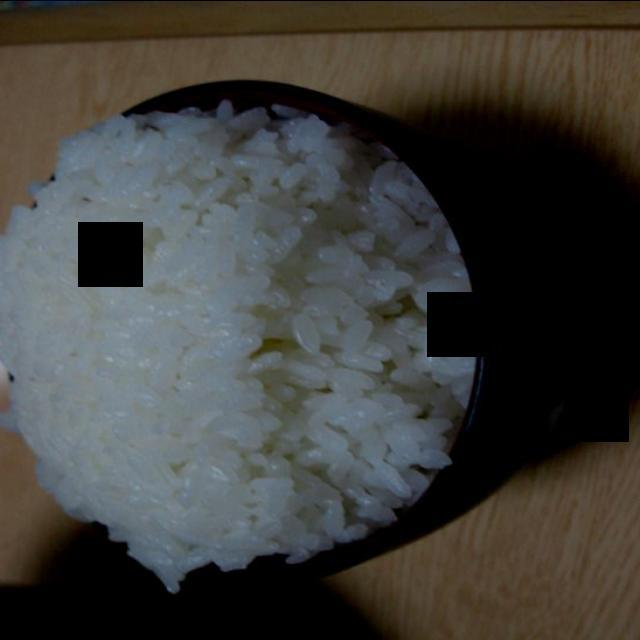rice: (0, 94, 476, 587)
